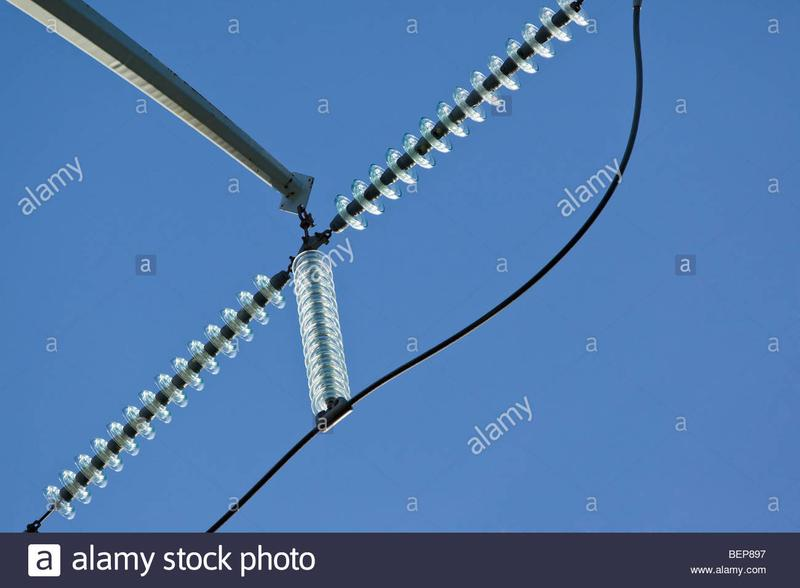isolator: (42, 272, 285, 520), (333, 1, 587, 230), (292, 249, 353, 419)
